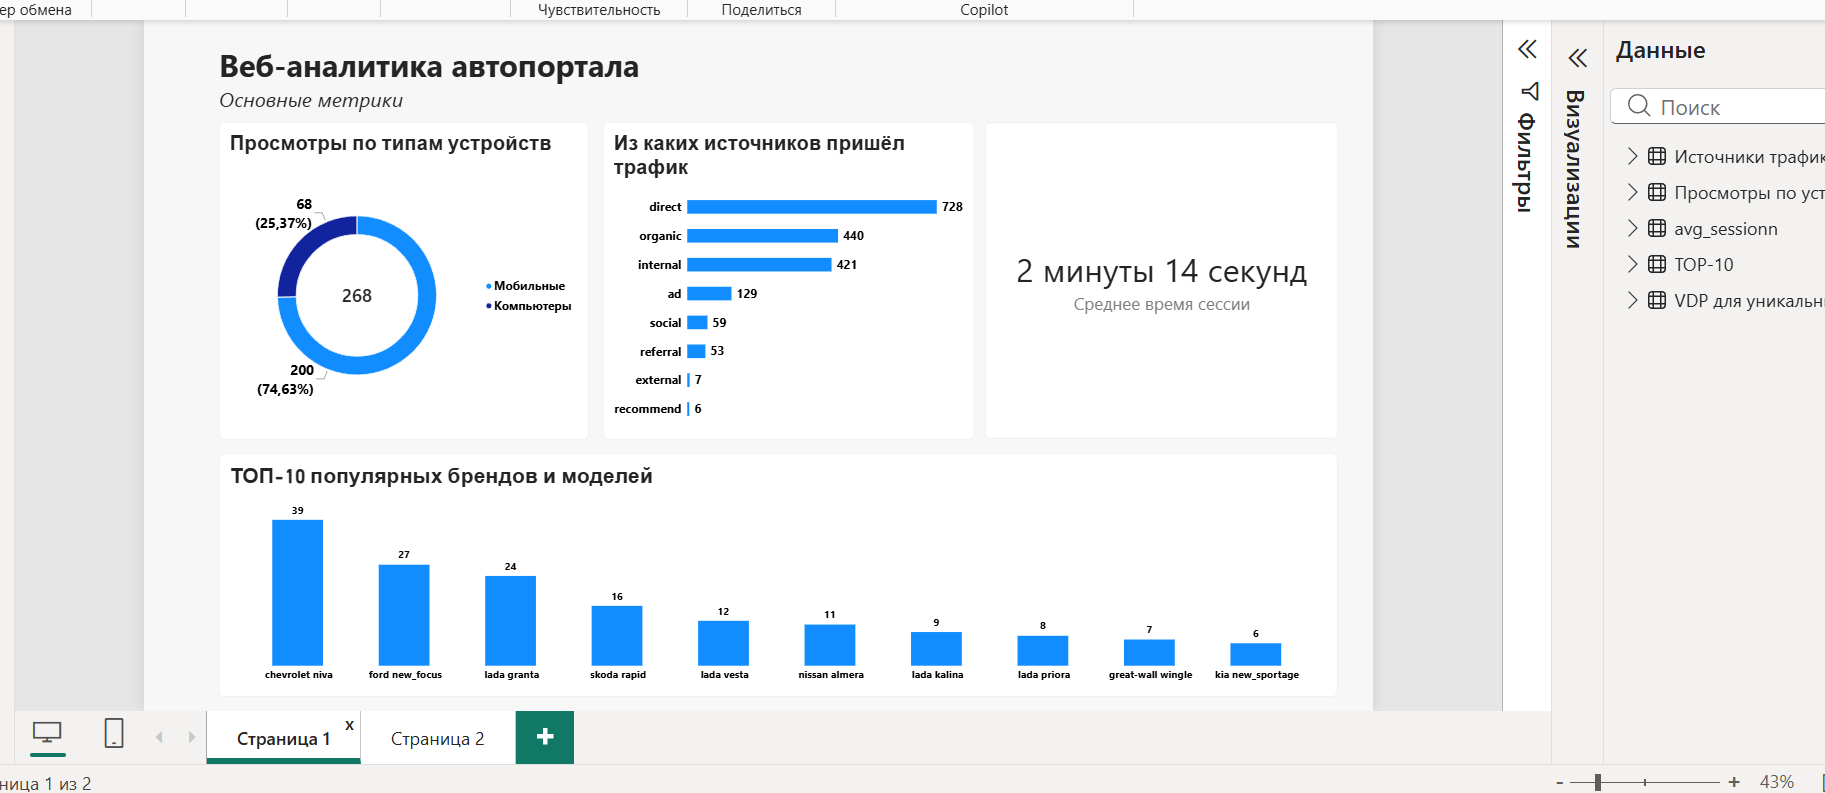

What the dashboard file says about the page in this screenshot:
{"tool":"powerbi","page":{"name":"Страница 1","canvas":[1920,1080],"ordinal":0},"visuals":[{"type":"clusteredColumnChart","title":"ТОП-10 популярных брендов и моделей","fields":{"Category":["TOP-10.Автомобиль"],"Y":["Sum(TOP-10.Просмотры)"]},"box":[118,678,1748,380],"z":0},{"type":"donutChart","title":"Просмотры по типам устройств","fields":{"Category":["Просмотры по устройствам.Тип устройства"],"Y":["Sum(Просмотры по устройствам.Просмотры)"]},"box":[118,160,578,496],"z":2},{"type":"barChart","title":"Из каких источников пришёл трафик","fields":{"Category":["Источники трафика.Источник трафика"],"Y":["Sum(Источники трафика.Количество клиентов)"]},"box":[718,160,580,496],"z":4},{"type":"textbox","box":[117.5,20,990,112.5],"z":5},{"type":"textbox","box":[117.5,37.5,1747.5,112.5],"z":6},{"type":"cardVisual","fields":{"Data":["Min(avg_sessionn.avg_session_time)"]},"box":[1315,160,550,495],"z":7}]}

Visuals, with their boxes on the page's 1920x1080 design canvas (x1, y1, x2, y2). These are canvas units, not pixel positions in the 1825x793 screenshot, which may show the page scaled, cropped or inside an application window:
"ТОП-10 популярных брендов и моделей" clusteredColumnChart: 118:678:1866:1058
"Просмотры по типам устройств" donutChart: 118:160:696:656
"Из каких источников пришёл трафик" barChart: 718:160:1298:656
textbox: 118:20:1108:132
textbox: 118:38:1865:150
cardVisual - Min(avg_sessionn.avg_session_time): 1315:160:1865:655
